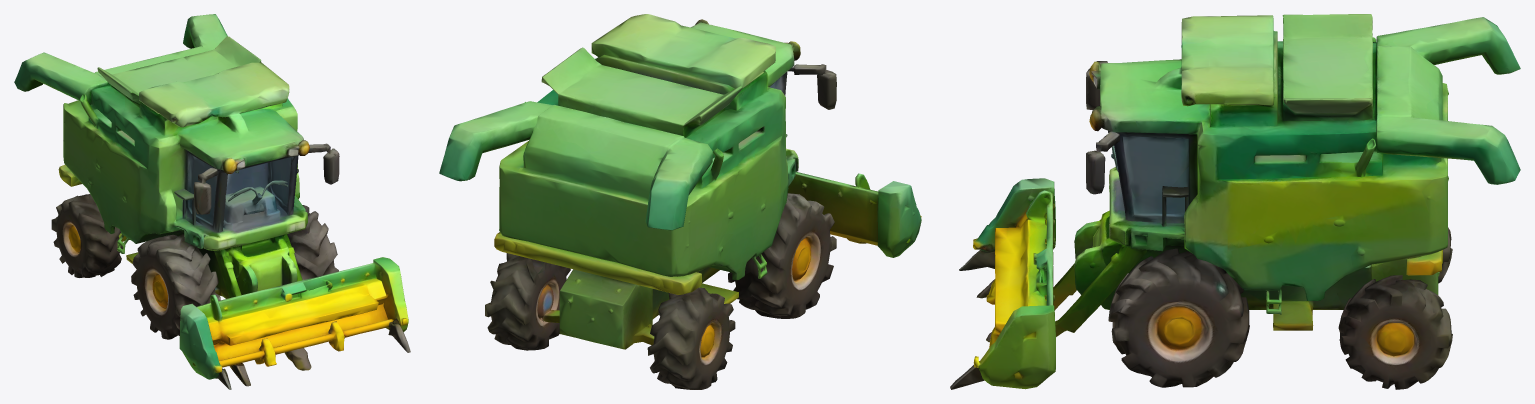
File: colheitadeira-verde.glb
The picture shows the model from 3 angles, left to right: view 1: azimuth 30°, elevation 25°; view 2: azimuth 150°, elevation 25°; view 3: azimuth 270°, elevation 25°; orthographic projection. The views are drawn at different scales.
Parts seen in each view (by area): view 1: tripo_node_4e04cb9f-1e73-49ea-be22-36ac16a442eb; view 2: tripo_node_4e04cb9f-1e73-49ea-be22-36ac16a442eb; view 3: tripo_node_4e04cb9f-1e73-49ea-be22-36ac16a442eb.
Boxes of the visible parts, x1,y1,x2,y2 form: tripo_node_4e04cb9f-1e73-49ea-be22-36ac16a442eb: (14, 14, 410, 389); tripo_node_4e04cb9f-1e73-49ea-be22-36ac16a442eb: (439, 14, 921, 389); tripo_node_4e04cb9f-1e73-49ea-be22-36ac16a442eb: (950, 14, 1520, 389).
Size of the model in its own units: 0.5656 by 0.5616 by 1.
Materials: 1 (1 with a texture image).
